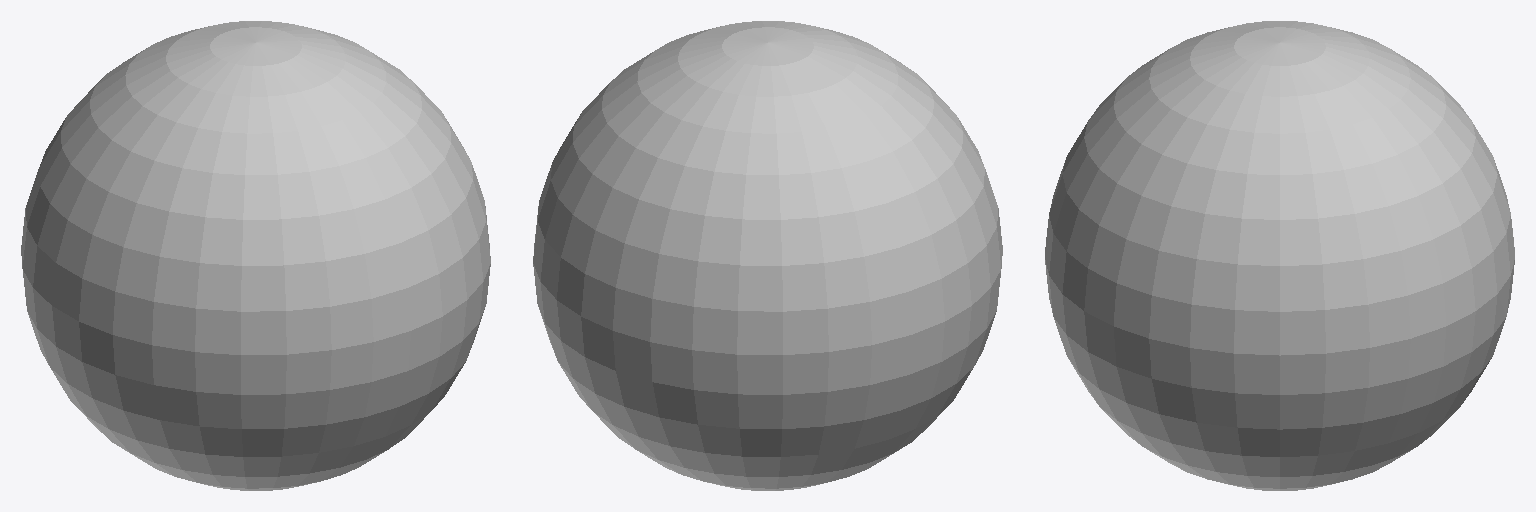
The model's file is RockySphere.obj.
3 views of the same model, side by side, from view 1: azimuth 30°, elevation 25°; view 2: azimuth 150°, elevation 25°; view 3: azimuth 270°, elevation 25° (orthographic).
Visible parts, largest first — view 1: Sphere; view 2: Sphere; view 3: Sphere.
Part boxes in pixels (x1,y1,x2,y2): Sphere: (21, 21, 490, 490); Sphere: (533, 21, 1002, 490); Sphere: (1045, 21, 1514, 490).
Size of the model in its own units: 7 by 7 by 7.